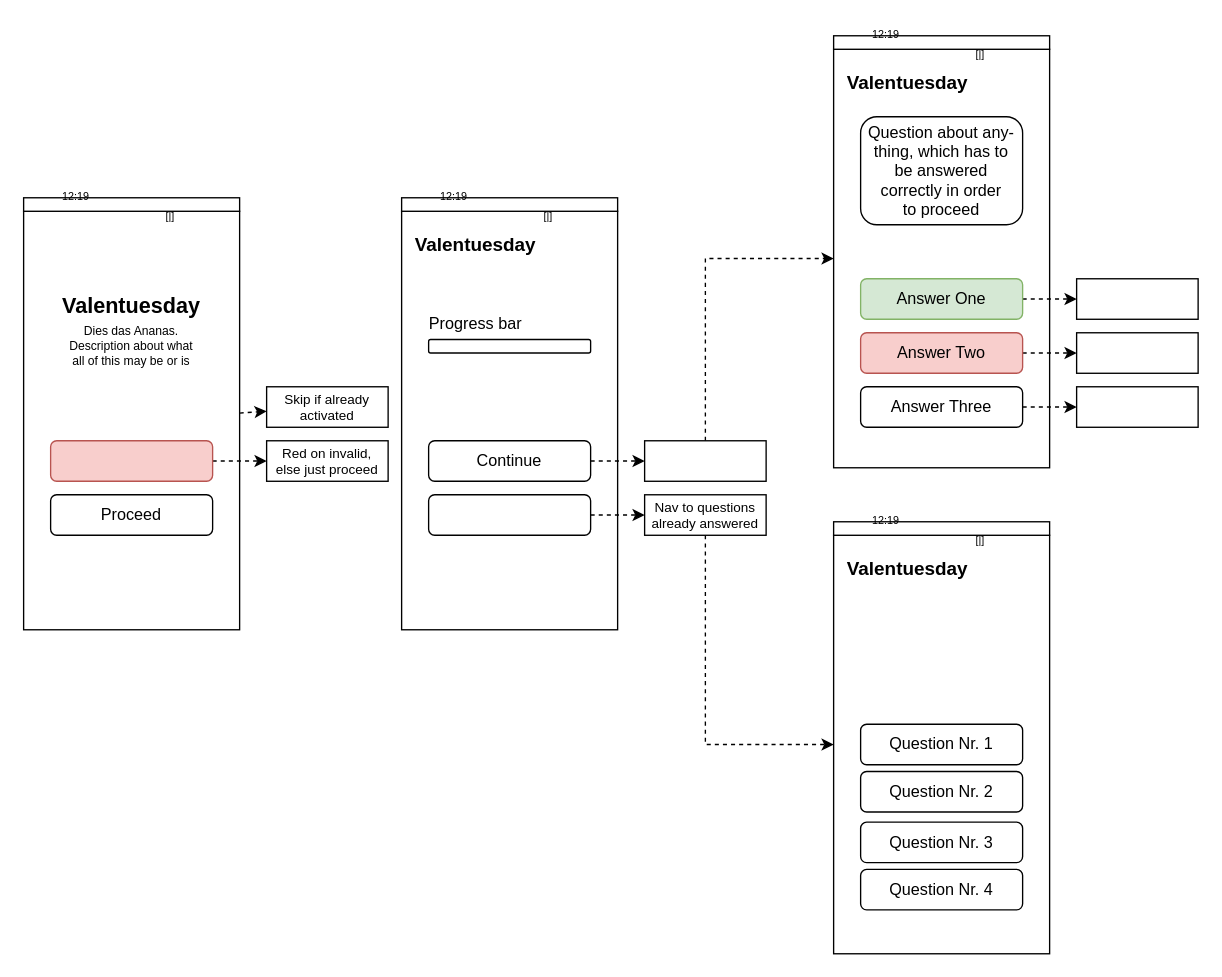
This 1222x977 diagram has some shape labels left out. The shapes that lost their labels are listed below. From the top down, each one's box as (x1, y1, x2, y2) in pixels, then its label:
(1075, 277, 1198, 319): Valid answer (1.5s hold)
(1075, 331, 1198, 373): Invalid answer (Stays red)
(1075, 385, 1198, 427): Unanswered
(49, 439, 213, 481): Activation key
(643, 439, 766, 481): Nav to next question
(427, 493, 591, 535): Already answered
